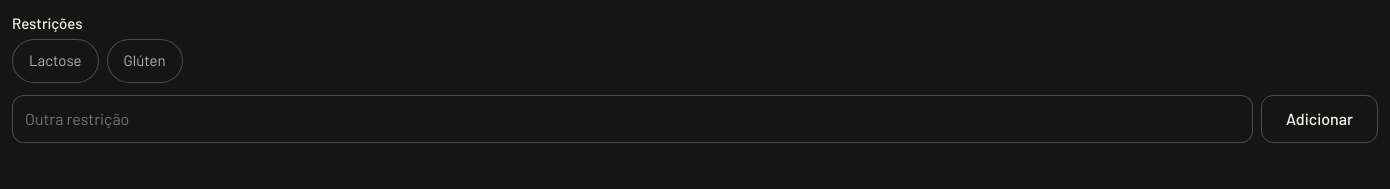
Test: TagPicker › recusa texto curto demais
Step 1. Type "a" into the field labelled "Outra restrição" → x=632, y=118, box [12, 94, 1253, 142]
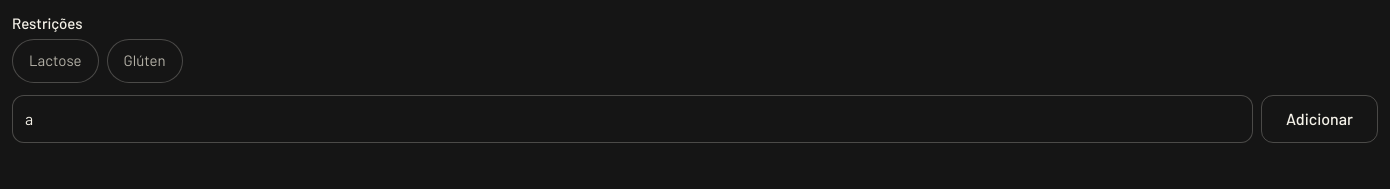
Step 2. Click the button "Adicionar" → x=1320, y=118, box [1261, 94, 1378, 142]
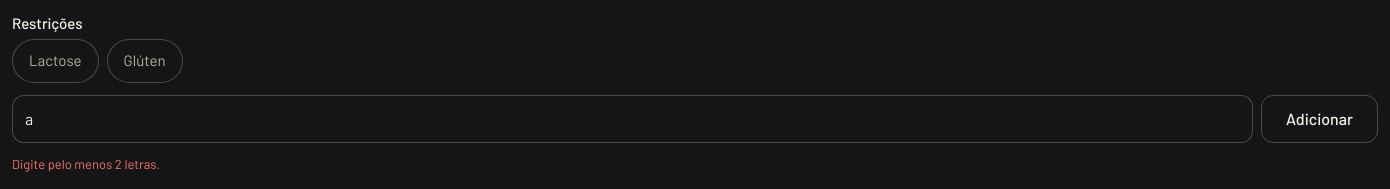
Check: the text "Digite pelo menos 2 letras." is shown, box [12, 156, 160, 172]
